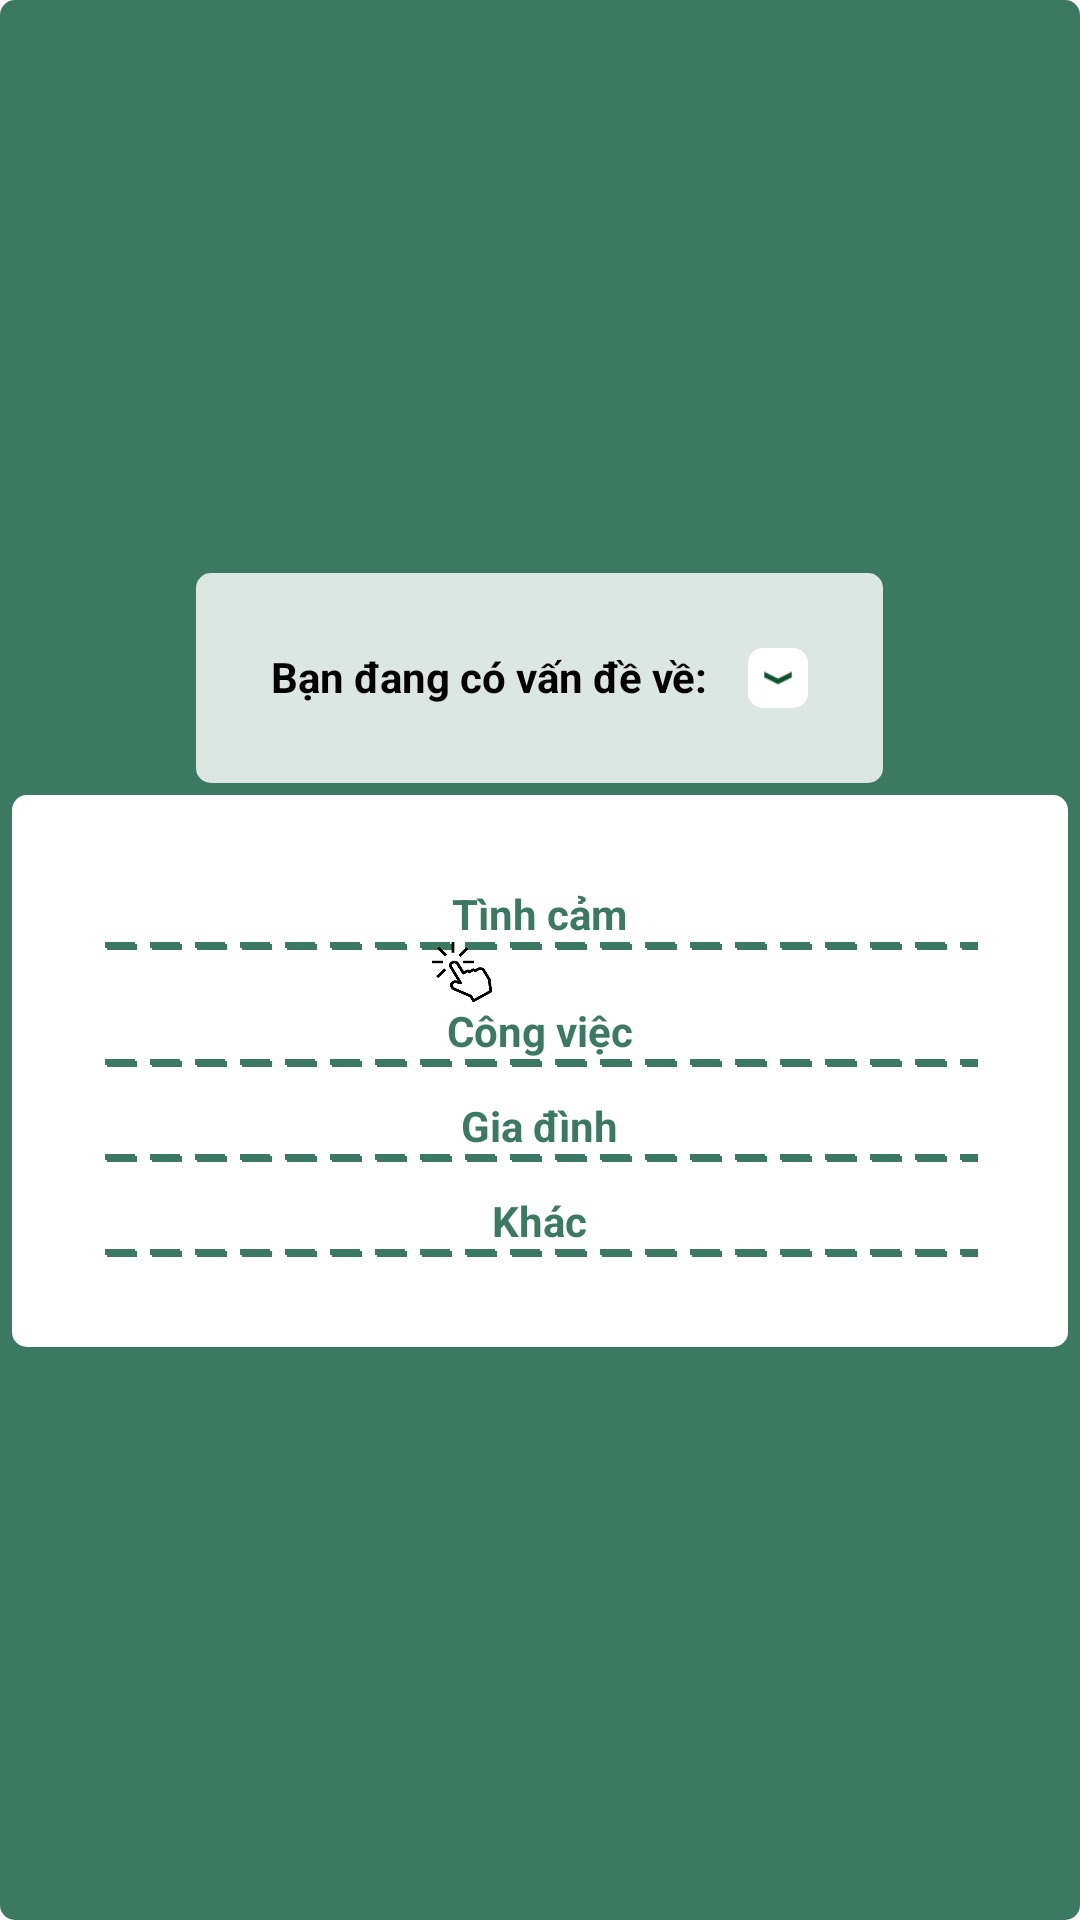

Screen size 1080x1920. Icon name, then its box in pixels as (x1, y1, x2, y2):
click: (432, 942, 492, 1002)
down: (748, 648, 808, 708)
